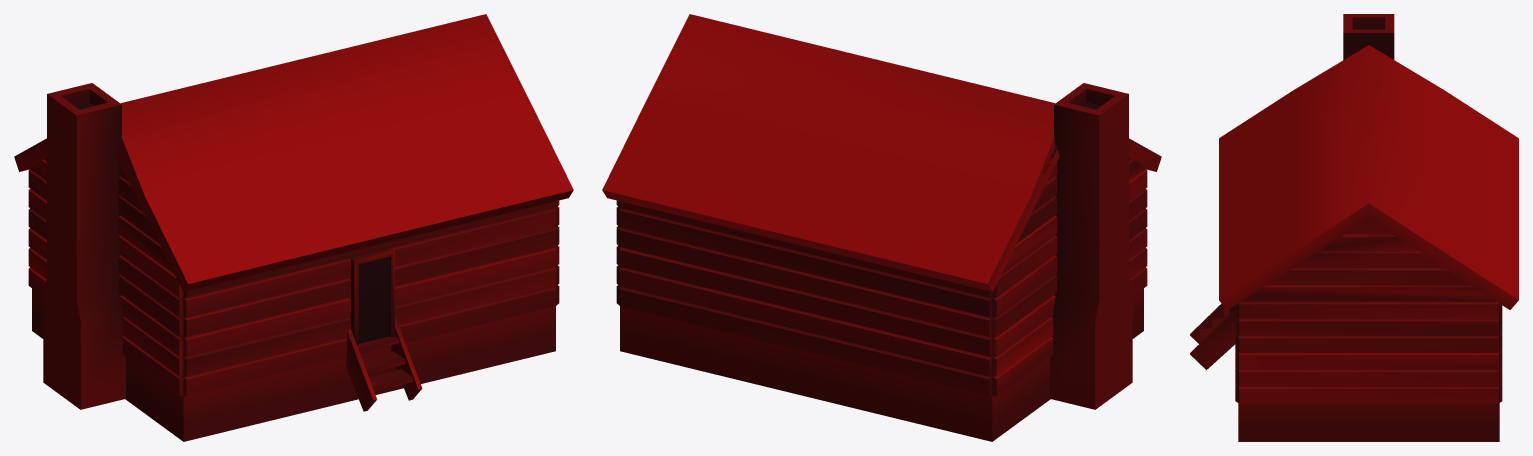
File: buildings-residential-logcabin_v2.fbx
3 renders of one model, left to right at view 1: azimuth 30°, elevation 25°; view 2: azimuth 150°, elevation 25°; view 3: azimuth 270°, elevation 25°, orthographic. The views are drawn at different scales.
Parts seen in each view (by area): view 1: LogCabin_v2; view 2: LogCabin_v2; view 3: LogCabin_v2.
Boxes of the visible parts, x1=… form: LogCabin_v2: x1=14, y1=14, x2=573, y2=441; LogCabin_v2: x1=602, y1=14, x2=1161, y2=441; LogCabin_v2: x1=1190, y1=14, x2=1518, y2=441.
Bounding box in the file's own units: 11.68 × 7.7 × 9.09.
